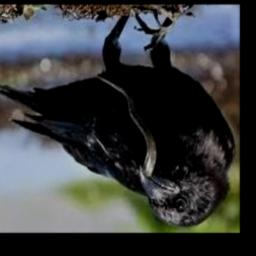Crow: (0, 13, 236, 227)
